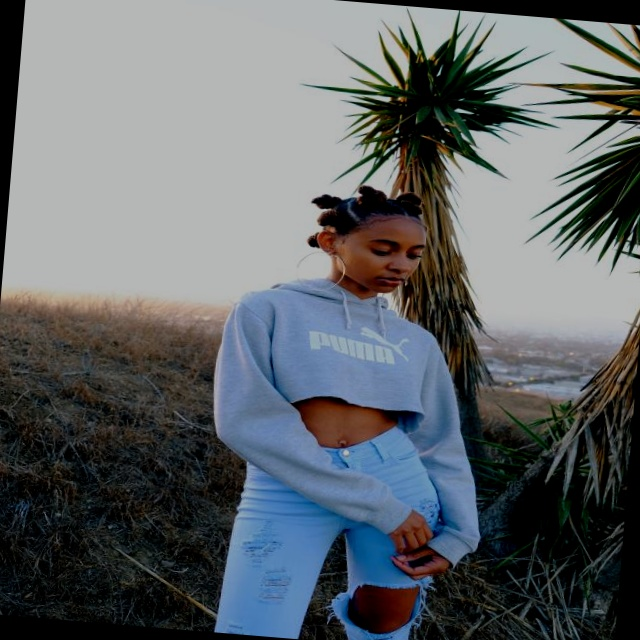Crop_Top: (265, 310, 415, 456)
ripped_pants: (220, 418, 451, 640)
